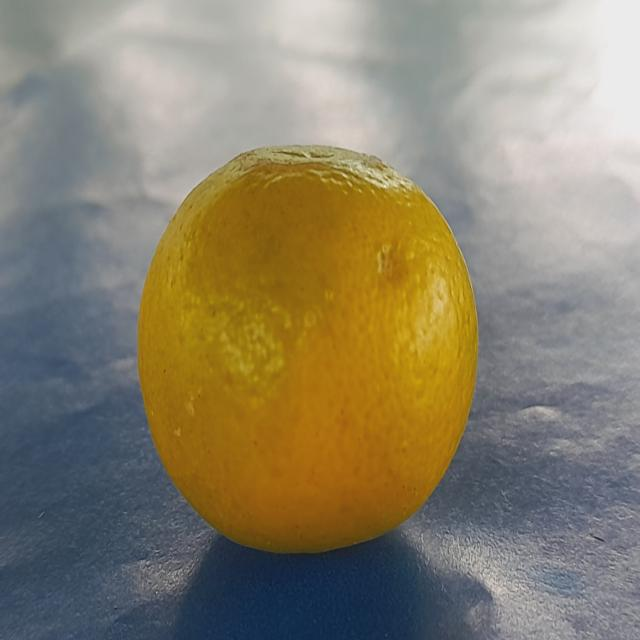greening: (136, 136, 474, 550)
